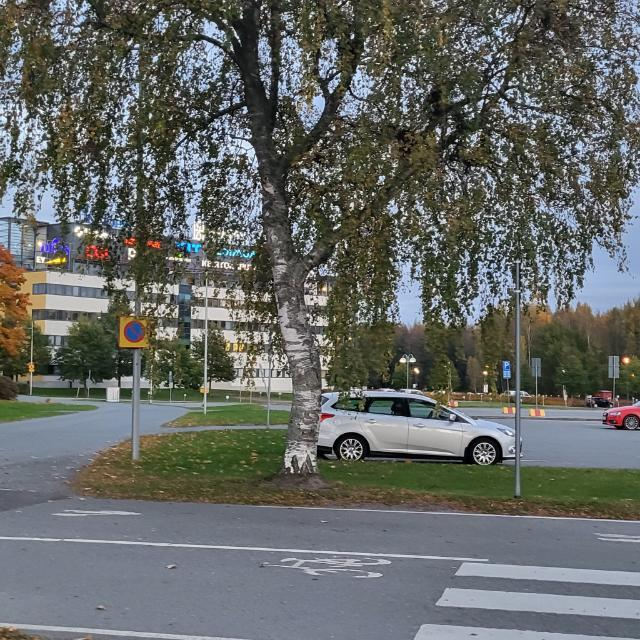birch: (205, 1, 378, 501)
